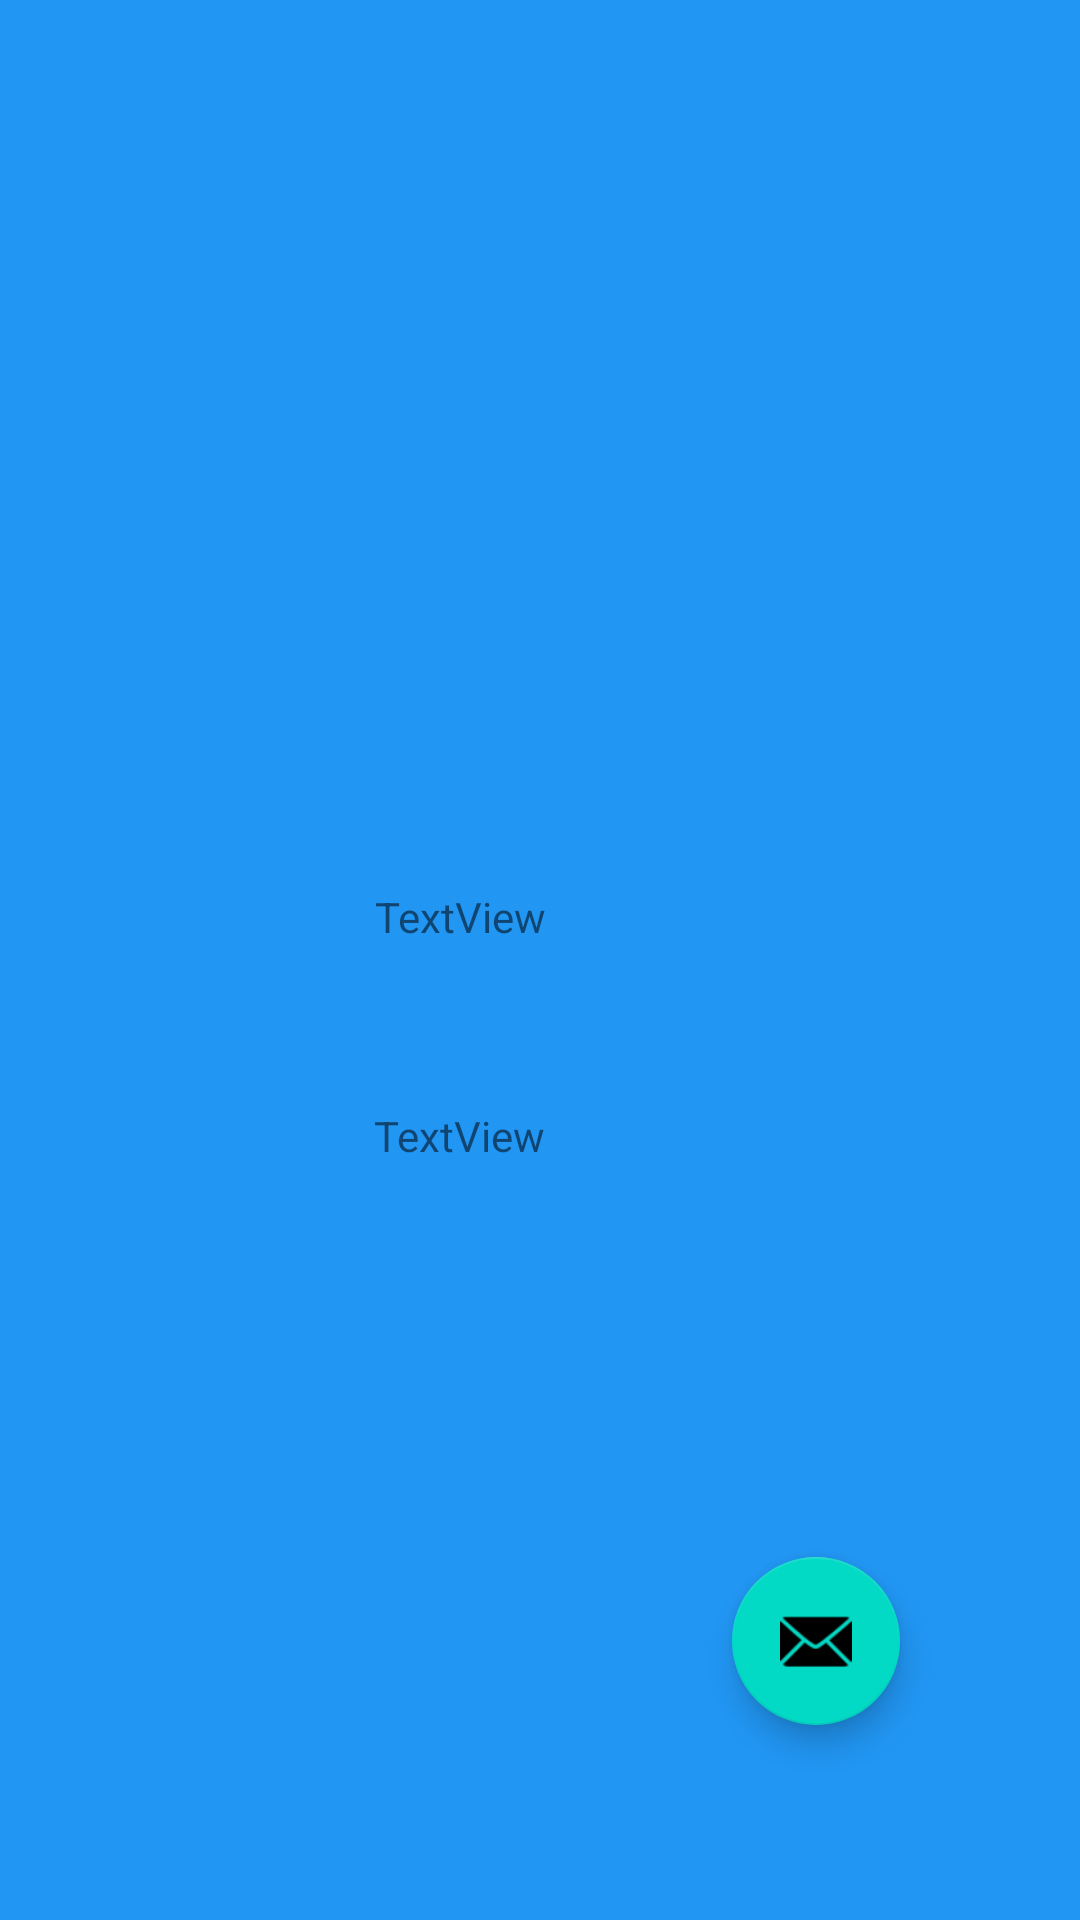

Named icons in this screenshot (1080 × 1920) and their bounding boxes, region(x1, y1, x2, y2):
email: region(732, 1557, 900, 1725)
